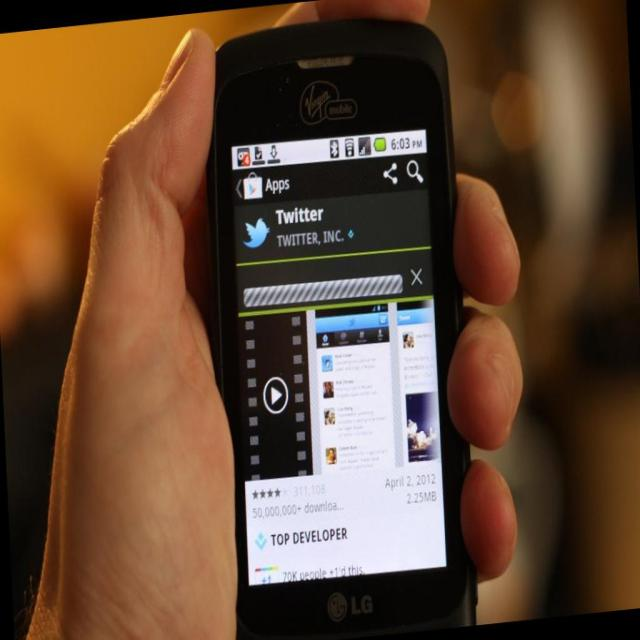handphone: (210, 28, 473, 634)
